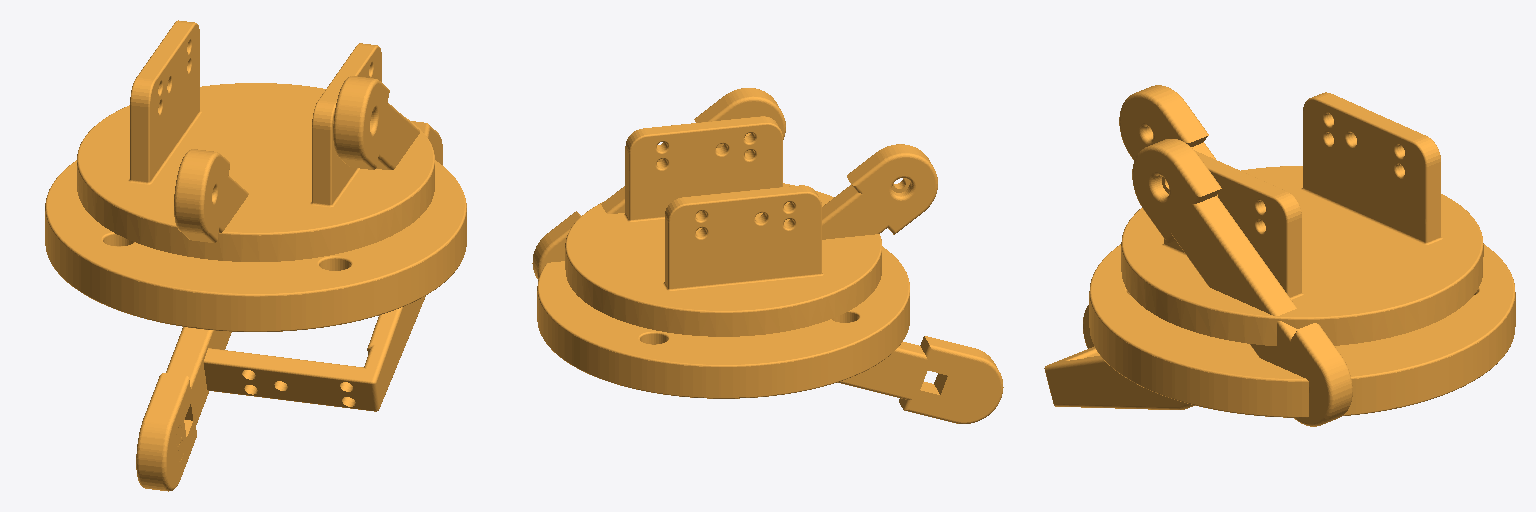
robot.urdf — atom_urdf:
<?xml version="1.0" encoding="utf-8"?>
<!-- This URDF was automatically created by SolidWorks to URDF Exporter! Originally created by [author] ([email redacted]) 
     Commit Version: 1.5.1-0-g916b5db  Build Version: 1.5.7152.31018
     For more information, please see http://wiki.ros.org/sw_urdf_exporter -->
<robot
  name="atom_urdf">
  <link
    name="base_link">
    <inertial>
      <origin
        xyz="-2.4727E-05 1.7347E-18 0.0099736"
        rpy="0 0 0" />
      <mass
        value="5" />
      <inertia
        ixx="0.011264"
        ixy="0"
        ixz="-3.9899E-07"
        iyy="0.011256"
        iyz="-1.54E-19"
        izz="0.022225" />
    </inertial>
    <visual>
      <origin
        xyz="0 0 0"
        rpy="0 0 0" />
      <geometry>
        <mesh
          filename="package://atom_urdf/meshes/base_link.STL" />
      </geometry>
      <material
        name="acrylic">
        <color
          rgba="1 0.72157 0.32941 1" />
      </material>
    </visual>
    <collision>
      <origin
        xyz="0 0 0"
        rpy="0 0 0" />
      <geometry>
        <mesh
          filename="package://atom_urdf/meshes/base_link.STL" />
      </geometry>
    </collision>
  </link>
  <link
    name="base2_link">
    <inertial>
      <origin
        xyz="0 -1.4674E-05 0.023592"
        rpy="0 0 0" />
      <mass
        value="2" />
      <inertia
        ixx="0.0054148"
        ixy="8.1315E-20"
        ixz="-2.0078E-19"
        iyy="0.0062539"
        iyz="1.7114E-06"
        izz="0.010383" />
    </inertial>
    <visual>
      <origin
        xyz="0 0 20"
        rpy="0 0 0" />
      <geometry>
        <mesh
          filename="package://atom_urdf/meshes/base2_link.STL" />
      </geometry>
      <material
        name="acrylic">
        <color
          rgba="1 0.72157 0.32941 1" />
      </material>
    </visual>
    <collision>
      <origin
        xyz="0 0 0"
        rpy="0 0 0" />
      <geometry>
        <mesh
          filename="package://atom_urdf/meshes/base2_link.STL" />
      </geometry>
    </collision>
  </link>
  <joint
    name="base2_joint"
    type="revolute">
    <origin
      xyz="0 0 0.01"
      rpy="0 0 2.33" />
    <parent
      link="base_link" />
    <child
      link="base2_link" />
    <axis
      xyz="0 0 1" />
    <limit
      lower="-3.141"
      upper="3.141"
      effort="10"
      velocity="1" />
  </joint>
  <link
    name="shoulder2elbow1_link">
    <inertial>
      <origin
        xyz="-0.06 -5.5511E-17 0.0011"
        rpy="0 0 0" />
      <mass
        value="0.53191" />
      <inertia
        ixx="6.1002E-05"
        ixy="-7.7927E-20"
        ixz="-1.5185E-06"
        iyy="0.0011553"
        iyz="4.4046E-20"
        izz="0.0011967" />
    </inertial>
    <visual>
      <origin
        xyz="48 53 58"
        rpy="0 0 0" />
      <geometry>
        <mesh
          filename="package://atom_urdf/meshes/shoulder2elbow1_link.STL" />
      </geometry>
      <material
        name="acrylic">
        <color
          rgba="1 0.72157 0.32941 1" />
      </material>
    </visual>
    <collision>
      <origin
        xyz="0 0 0"
        rpy="0 0 0" />
      <geometry>
        <mesh
          filename="package://atom_urdf/meshes/shoulder2elbow1_link.STL" />
      </geometry>
    </collision>
  </link>
  <joint
    name="shoulder2elbow1_joint"
    type="revolute">
    <origin
      xyz="-0.0314 0.0088 0.062"
      rpy="1.5708 0.62809 -1.5708" />
    <parent
      link="base2_link" />
    <child
      link="shoulder2elbow1_link" />
    <axis
      xyz="0 0 1" />
    <limit
      lower="-3.141"
      upper="3.141"
      effort="10"
      velocity="1" />
  </joint>
  <link
    name="elbow2twist1_link">
    <inertial>
      <origin
        xyz="0.059349 3.2473E-11 0.0075"
        rpy="0 0 0" />
      <mass
        value="0.6" />
      <inertia
        ixx="7.6234E-05"
        ixy="-8.5501E-13"
        ixz="6.0719E-13"
        iyy="0.002212"
        iyz="1.6854E-14"
        izz="0.0022649" />
    </inertial>
    <visual>
      <origin
        xyz="0 0 0"
        rpy="0 0 0" />
      <geometry>
        <mesh
          filename="package://atom_urdf/meshes/elbow2twist1_link.STL" />
      </geometry>
      <material
        name="acrylic">
        <color
          rgba="1 0.72157 0.32941 1" />
      </material>
    </visual>
    <collision>
      <origin
        xyz="0 0 0"
        rpy="0 0 0" />
      <geometry>
        <mesh
          filename="package://atom_urdf/meshes/elbow2twist1_link.STL" />
      </geometry>
    </collision>
  </link>
  <joint
    name="elboe2twist1_joint"
    type="revolute">
    <origin
      xyz="-0.12 0 -0.0064"
      rpy="-3.1416 0 -2.152" />
    <parent
      link="shoulder2elbow1_link" />
    <child
      link="elbow2twist1_link" />
    <axis
      xyz="0 0 1" />
    <limit
      lower="-3.141"
      upper="3.141"
      effort="10"
      velocity="1" />
  </joint>
  <link
    name="twist_link">
    <inertial>
      <origin
        xyz="9.3271E-09 0.039066 0.037138"
        rpy="0 0 0" />
      <mass
        value="0.2" />
      <inertia
        ixx="0.001388"
        ixy="2.0288E-10"
        ixz="-5.7174E-10"
        iyy="0.00077126"
        iyz="7.8041E-06"
        izz="0.0006648" />
    </inertial>
    <visual>
      <origin
        xyz="0 0 0"
        rpy="0 0 0" />
      <geometry>
        <mesh
          filename="package://atom_urdf/meshes/twist_link.STL" />
      </geometry>
      <material
        name="acrylic">
        <color
          rgba="1 0.72157 0.32941 1" />
      </material>
    </visual>
    <collision>
      <origin
        xyz="0 0 0"
        rpy="0 0 0" />
      <geometry>
        <mesh
          filename="package://atom_urdf/meshes/twist_link.STL" />
      </geometry>
    </collision>
  </link>
  <joint
    name="twist_joint"
    type="continuous">
    <origin
      xyz="0.12 0 0.075"
      rpy="3.1416 0 1.5708" />
    <parent
      link="elbow2twist1_link" />
    <child
      link="twist_link" />
    <axis
      xyz="0 0 -1" />
    <limit
      lower="0"
      upper="0"
      effort="10"
      velocity="1" />
  </joint>
  <link
    name="shoulder2elbow2.2_link">
    <inertial>
      <origin
        xyz="0.06 5.5511E-17 -0.0011476"
        rpy="0 0 0" />
      <mass
        value="0.53191" />
      <inertia
        ixx="6.1001E-05"
        ixy="1.6941E-21"
        ixz="-5.294E-20"
        iyy="0.0011553"
        iyz="-6.7763E-21"
        izz="0.0011967" />
    </inertial>
    <visual>
      <origin
        xyz="0 0 0"
        rpy="0 0 0" />
      <geometry>
        <mesh
          filename="package://atom_urdf/meshes/shoulder2elbow2.2_link.STL" />
      </geometry>
      <material
        name="acrylic">
        <color
          rgba="1 0.72157 0.32941 1" />
      </material>
    </visual>
    <collision>
      <origin
        xyz="0 0 0"
        rpy="0 0 0" />
      <geometry>
        <mesh
          filename="package://atom_urdf/meshes/shoulder2elbow2.2_link.STL" />
      </geometry>
    </collision>
  </link>
  <joint
    name="shoulder2elbow2.2_joint"
    type="revolute">
    <origin
      xyz="0.0586 0.0088 0.062"
      rpy="1.5708 -0.62809 1.5708" />
    <parent
      link="base2_link" />
    <child
      link="shoulder2elbow2.2_link" />
    <axis
      xyz="0 0 -1" />
    <limit
      lower="-3.141"
      upper="3.141"
      effort="10"
      velocity="1" />
  </joint>
  <link
    name="elbow2twist2.2_link">
    <inertial>
      <origin
        xyz="0.058961 0 0.0075"
        rpy="0 0 0" />
      <mass
        value="0.6" />
      <inertia
        ixx="7.7799E-05"
        ixy="-3.4728E-19"
        ixz="1.351E-19"
        iyy="0.0023482"
        iyz="5.421E-20"
        izz="0.0024014" />
    </inertial>
    <visual>
      <origin
        xyz="0 0 0"
        rpy="0 0 0" />
      <geometry>
        <mesh
          filename="package://atom_urdf/meshes/elbow2twist2.2_link.STL" />
      </geometry>
      <material
        name="acrylic">
        <color
          rgba="1 0.72157 0.32941 1" />
      </material>
    </visual>
    <collision>
      <origin
        xyz="0 0 0"
        rpy="0 0 0" />
      <geometry>
        <mesh
          filename="package://atom_urdf/meshes/elbow2twist2.2_link.STL" />
      </geometry>
    </collision>
  </link>
  <joint
    name="elbow2twist2.2_joint"
    type="revolute">
    <origin
      xyz="0.12 0 -0.0236"
      rpy="0 0 -0.98956" />
    <parent
      link="shoulder2elbow2.2_link" />
    <child
      link="elbow2twist2.2_link" />
    <axis
      xyz="0 0 -1" />
    <limit
      lower="-3.141"
      upper="3.141"
      effort="10"
      velocity="1" />
  </joint>
</robot>

--- What the picture shows (computed from the rendered views, not written in the file) ---
The picture shows the robot from 3 angles, left to right: view 1: azimuth 30°, elevation 25°; view 2: azimuth 150°, elevation 25°; view 3: azimuth 270°, elevation 25°; orthographic projection.
Model atom_urdf with 7 links and 6 joints (5 revolute, 1 continuous), rooted at base_link, posed every joint at zero.
Links seen in each view (by area): view 1: base2_link, base_link, twist_link, shoulder2elbow1_link, shoulder2elbow2.2_link, elbow2twist2.2_link, elbow2twist1_link; view 2: base2_link, base_link, elbow2twist2.2_link, shoulder2elbow2.2_link, shoulder2elbow1_link; view 3: base2_link, base_link, shoulder2elbow1_link, twist_link, shoulder2elbow2.2_link.
Link boxes in pixels (x1,y1,x2,y2): base2_link: (77, 20, 434, 261); base_link: (45, 160, 466, 331); twist_link: (204, 296, 425, 411); shoulder2elbow1_link: (333, 76, 442, 169); shoulder2elbow2.2_link: (174, 149, 248, 242); elbow2twist2.2_link: (136, 327, 207, 487); elbow2twist1_link: (140, 330, 231, 491); base2_link: (565, 116, 881, 336); base_link: (537, 246, 909, 398); elbow2twist2.2_link: (837, 336, 1003, 423); shoulder2elbow2.2_link: (822, 144, 937, 239); shoulder2elbow1_link: (532, 88, 785, 279); base2_link: (1121, 92, 1483, 345); base_link: (1089, 244, 1515, 417); shoulder2elbow1_link: (1132, 139, 1352, 426); twist_link: (1044, 347, 1194, 409); shoulder2elbow2.2_link: (1119, 85, 1215, 160).
Size in the robot's own frame: 229 by 221 by 175 metres.
Meshes: 7 distinct files referenced, 7 mesh visuals loaded (7 binary STL).